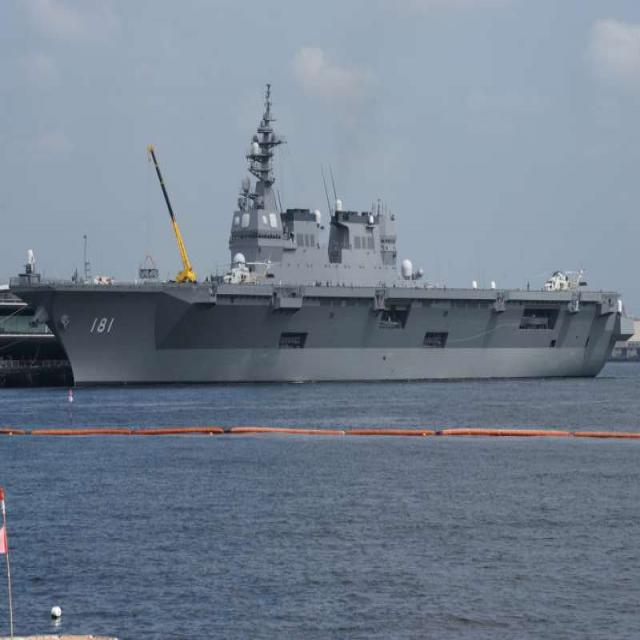Portanaves: (9, 81, 636, 395)
